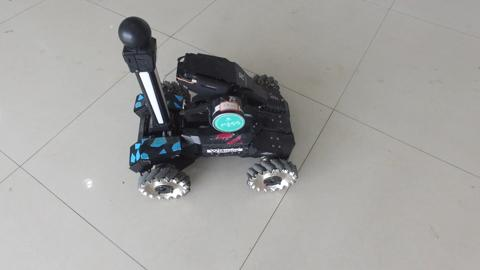chariot: (99, 16, 308, 214)
